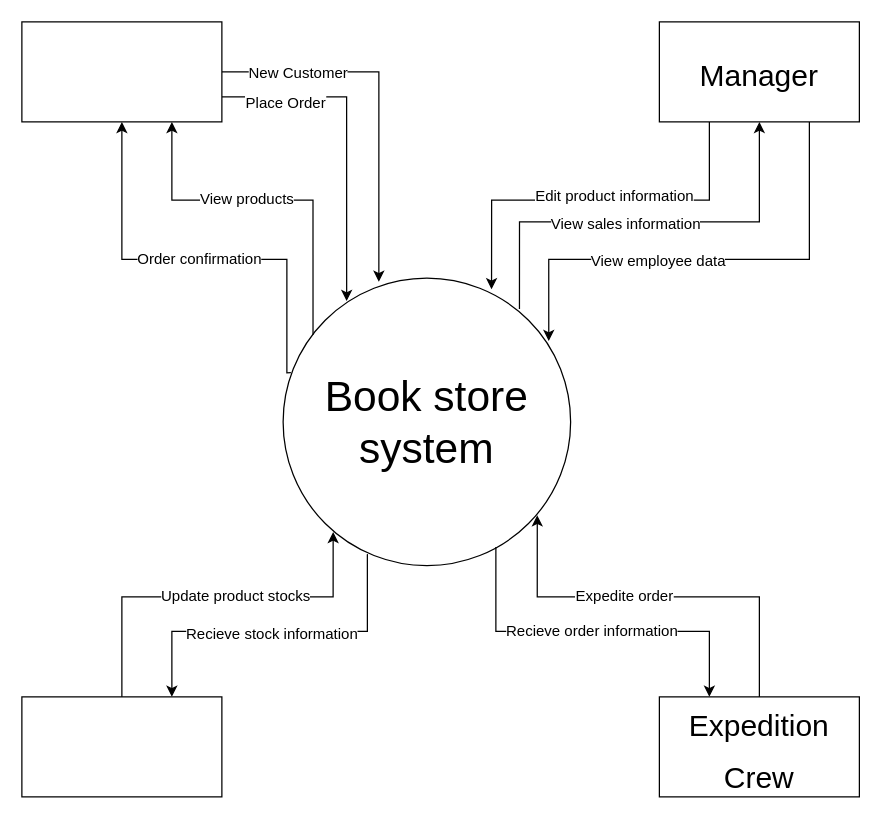
Some shapes in this 881 by 820 pixel diagram are drawn without their labels. The centre of each missing label's shape, as x and y in pixels:
Customer: (x=121, y=71)
Storage employee: (x=121, y=746)
